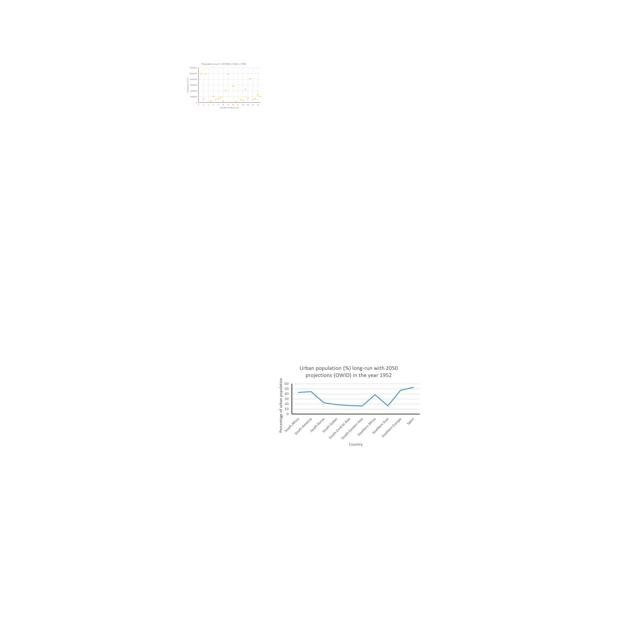Graph: (277, 363, 422, 449), (186, 62, 263, 110)
